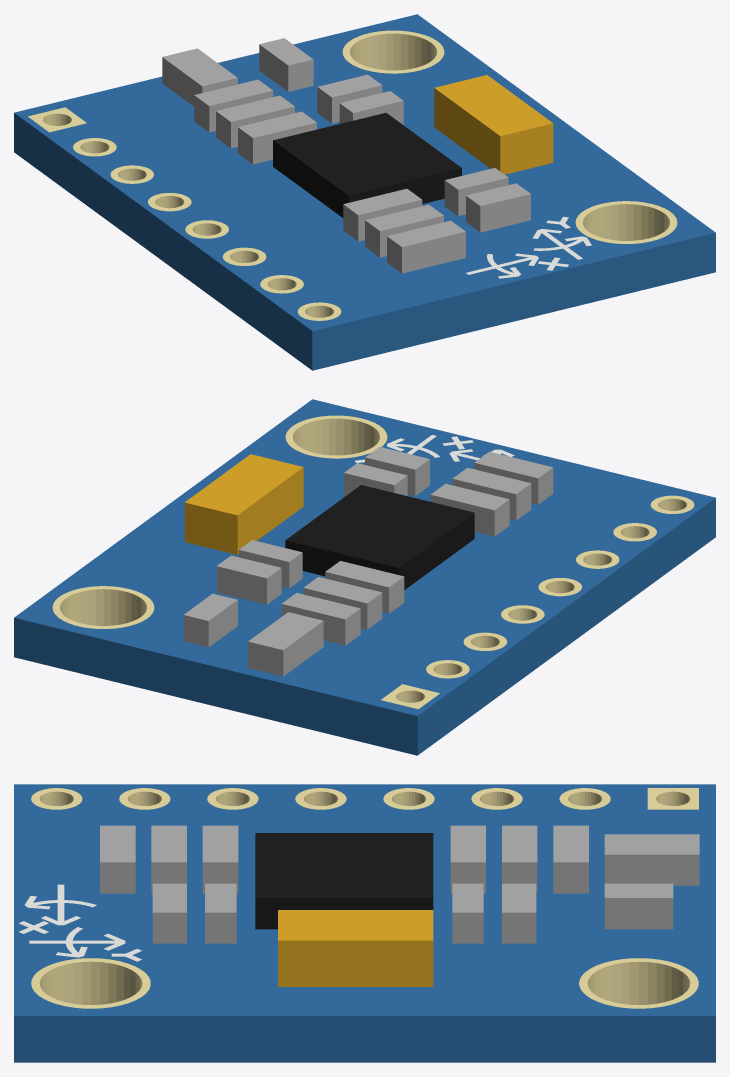
The model's file is MPU_6050.dae.
The picture shows the model from 3 angles, top to bottom: view 1: azimuth 30°, elevation 25°; view 2: azimuth 150°, elevation 25°; view 3: azimuth 270°, elevation 25°; orthographic projection. The views are drawn at different scales.
Visible parts, largest first — view 1: 5ee3e71eb6b6c51498ca3aad (×27); view 2: 5ee3e71eb6b6c51498ca3aad (×25); view 3: 5ee3e71eb6b6c51498ca3aad (×27).
Part boxes in pixels (x1=…): 5ee3e71eb6b6c51498ca3aad (×27): x1=14, y1=14, x2=715, y2=370; 5ee3e71eb6b6c51498ca3aad (×25): x1=14, y1=399, x2=715, y2=755; 5ee3e71eb6b6c51498ca3aad (×27): x1=14, y1=784, x2=715, y2=1062.
Size of the model in its own units: 0.016 by 0.0205 by 0.003.
